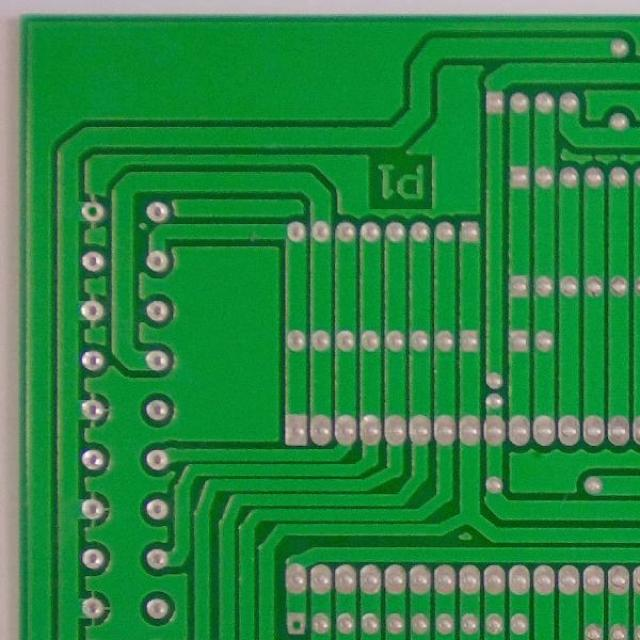missing_hole: (78, 197, 109, 226), (286, 611, 307, 637)
